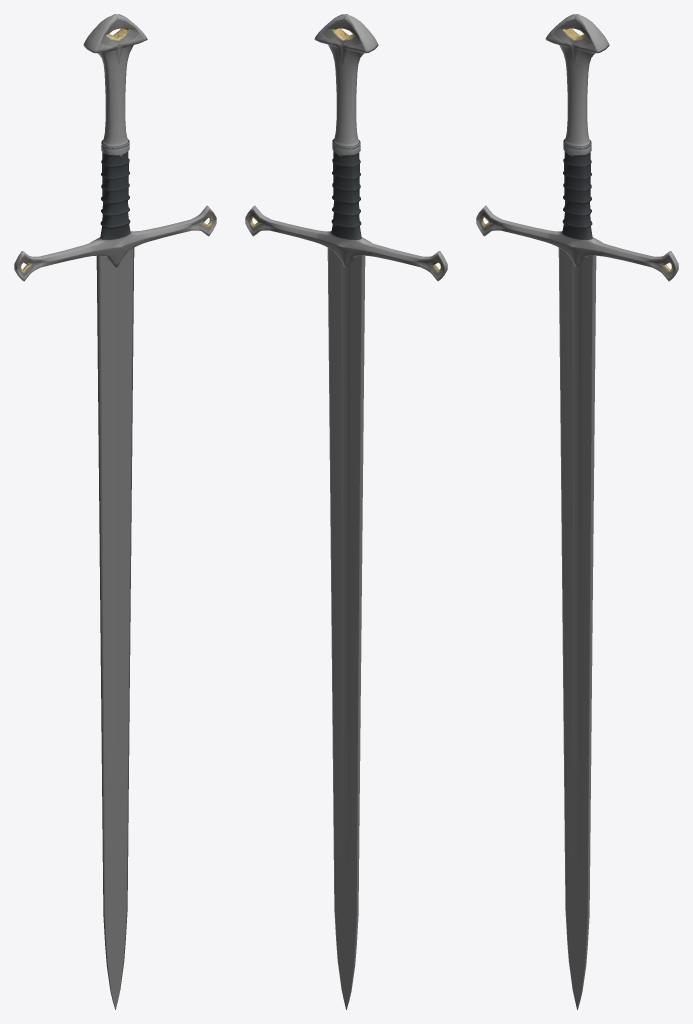
Rendered from anduril.glb.
3 renders of one model, left to right at view 1: azimuth 30°, elevation 25°; view 2: azimuth 150°, elevation 25°; view 3: azimuth 330°, elevation 25°, orthographic.
Parts seen in each view (by area): view 1: pCube3; view 2: pCube3; view 3: pCube3.
Part boxes in pixels (x1,y1,x2,y2): pCube3: [14, 14, 216, 1009]; pCube3: [245, 14, 447, 1009]; pCube3: [476, 14, 678, 1009].
Bounding box in the file's own units: 31.35 × 150 × 3.23.
1 material, 1 textured.
